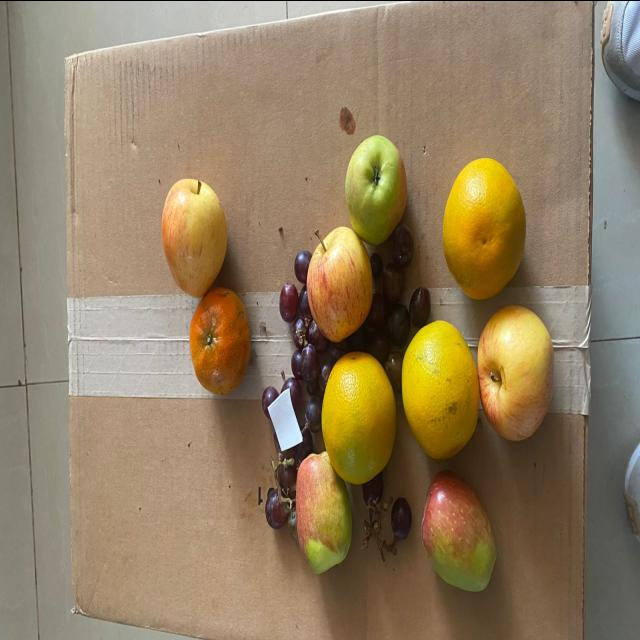hoja: (266, 388, 307, 451)
